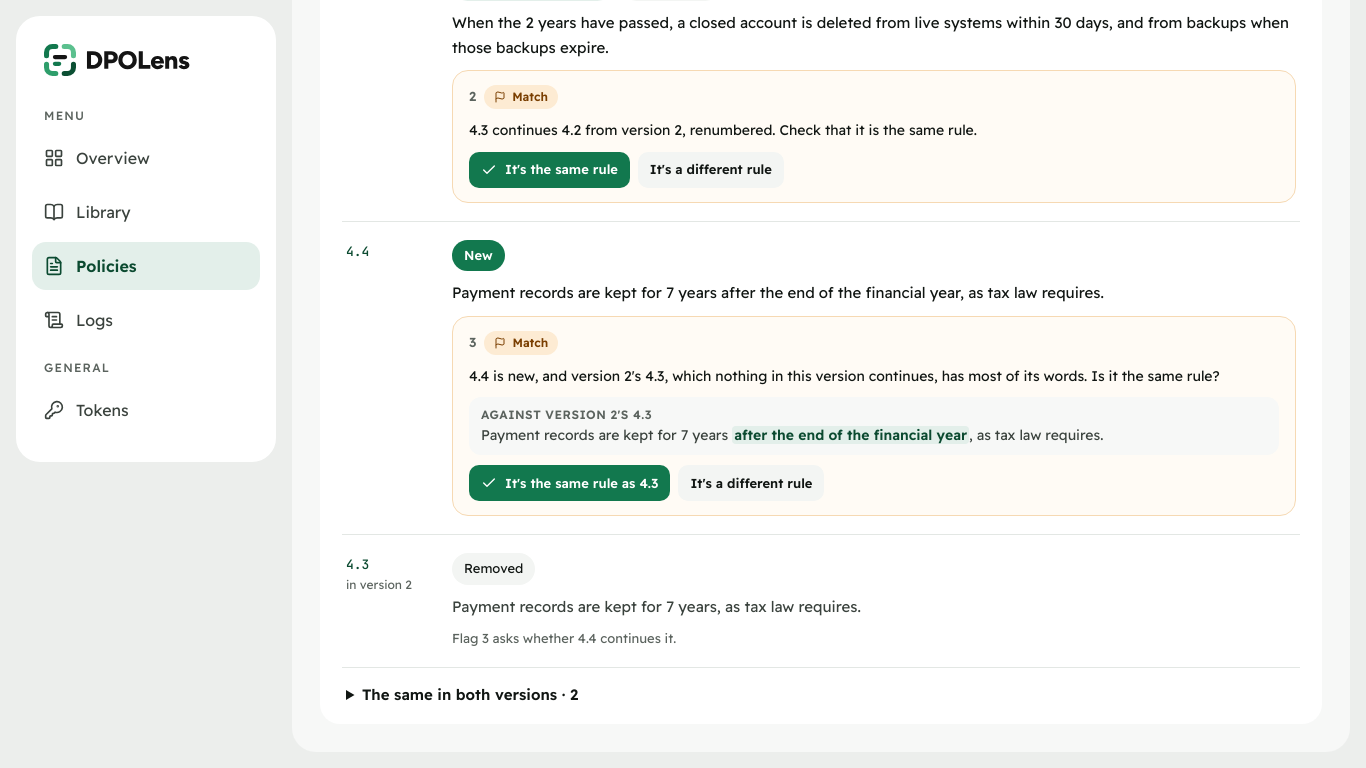
it: a draft under review › asks whether a new clause is a rule nothing continues, and says it is
(page scrolled)
Expected: the text "Against version 2's 4.3" is shown, [481,407,652,422]
Expected: the text "after the end of the financial year" is shown, [732,426,969,444]
Click the button "It's the same rule as 4.3" at [570, 483], box [469,465,670,501]
(page scrolled)
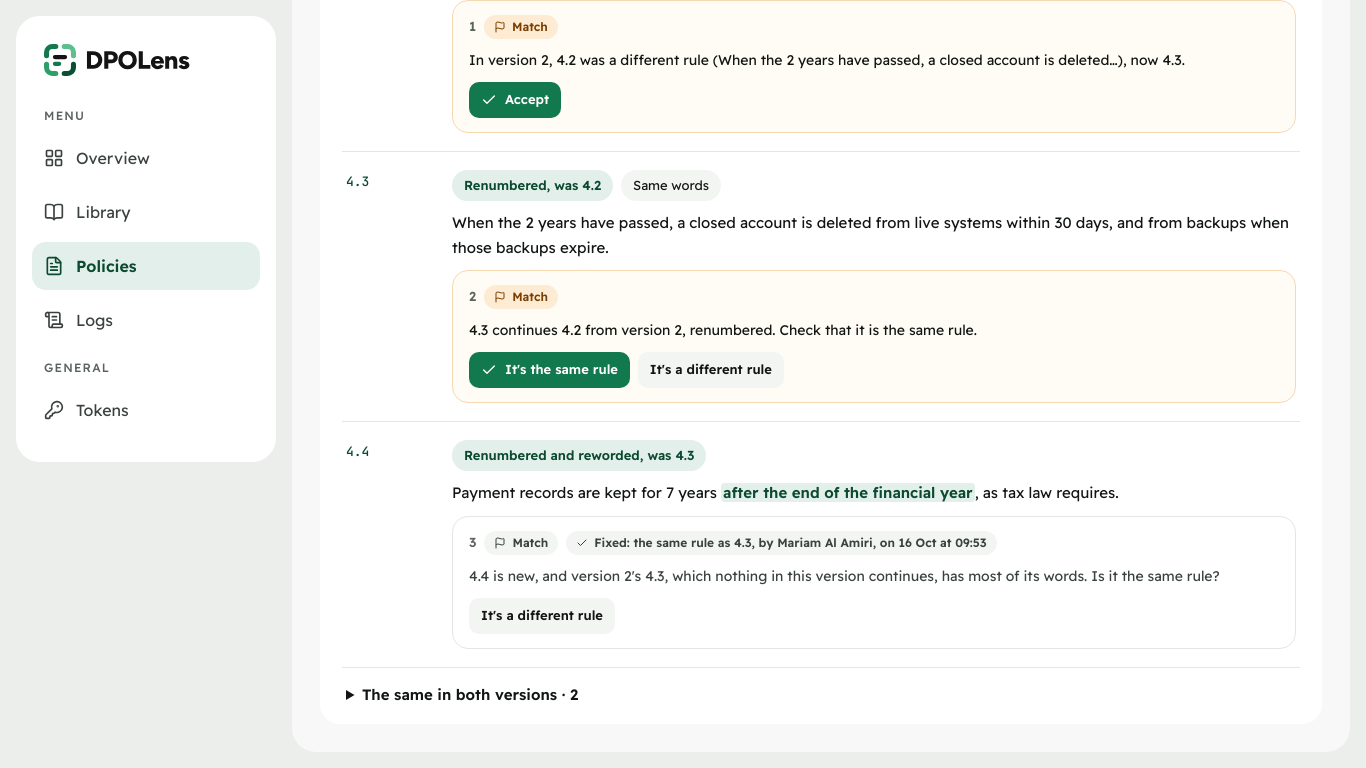
Now the text "Fixed: the same rule as 4.3, by Mariam Al Amiri" is shown, box [594,535,987,550]
Now the text "Renumbered and reworded, was 4.3" is shown, box [452,440,706,471]
Click the button "It's a different rule" below "Payment records are kept for 7 years" at [542, 616], box [469,598,615,634]
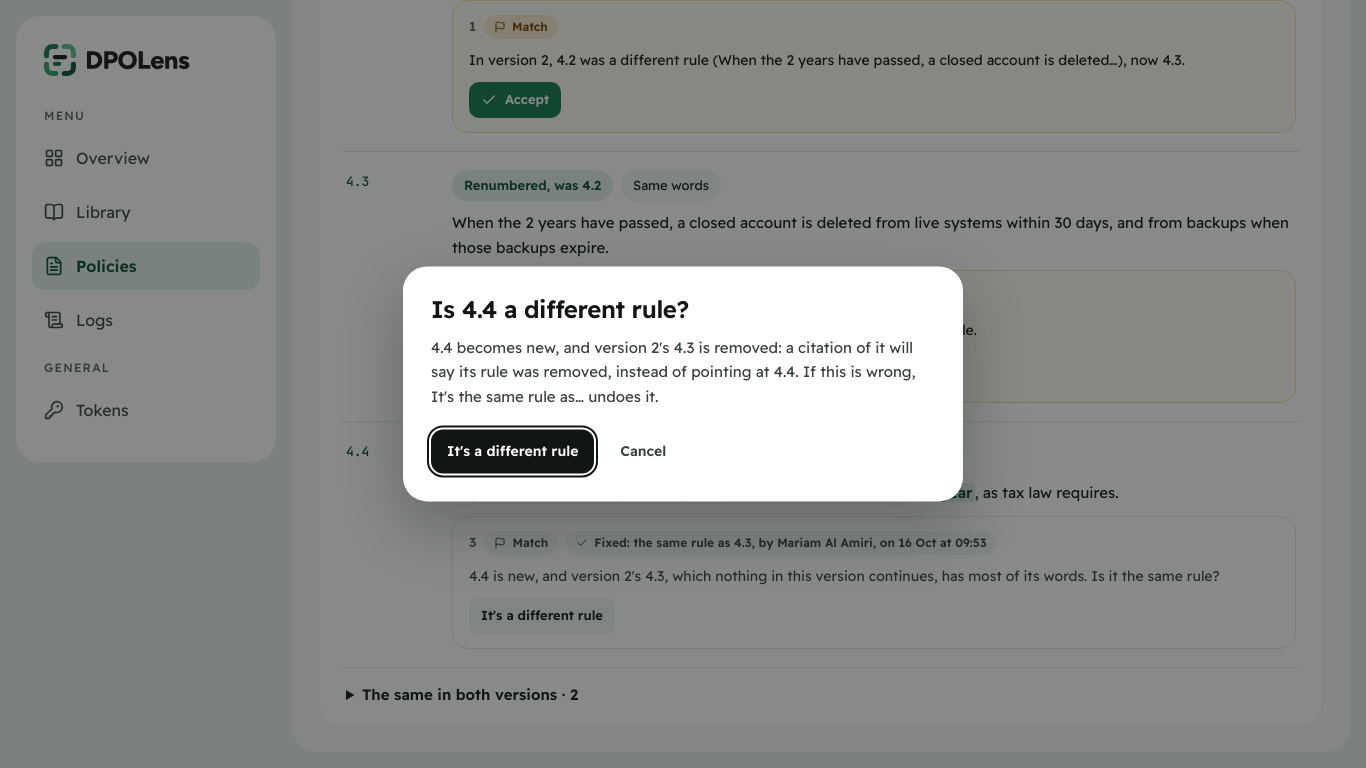
Now the dialog "Is 4.4 a different rule?" shows "If this is wrong, It's the same rule as… undoes it.", box [431,338,916,406]
